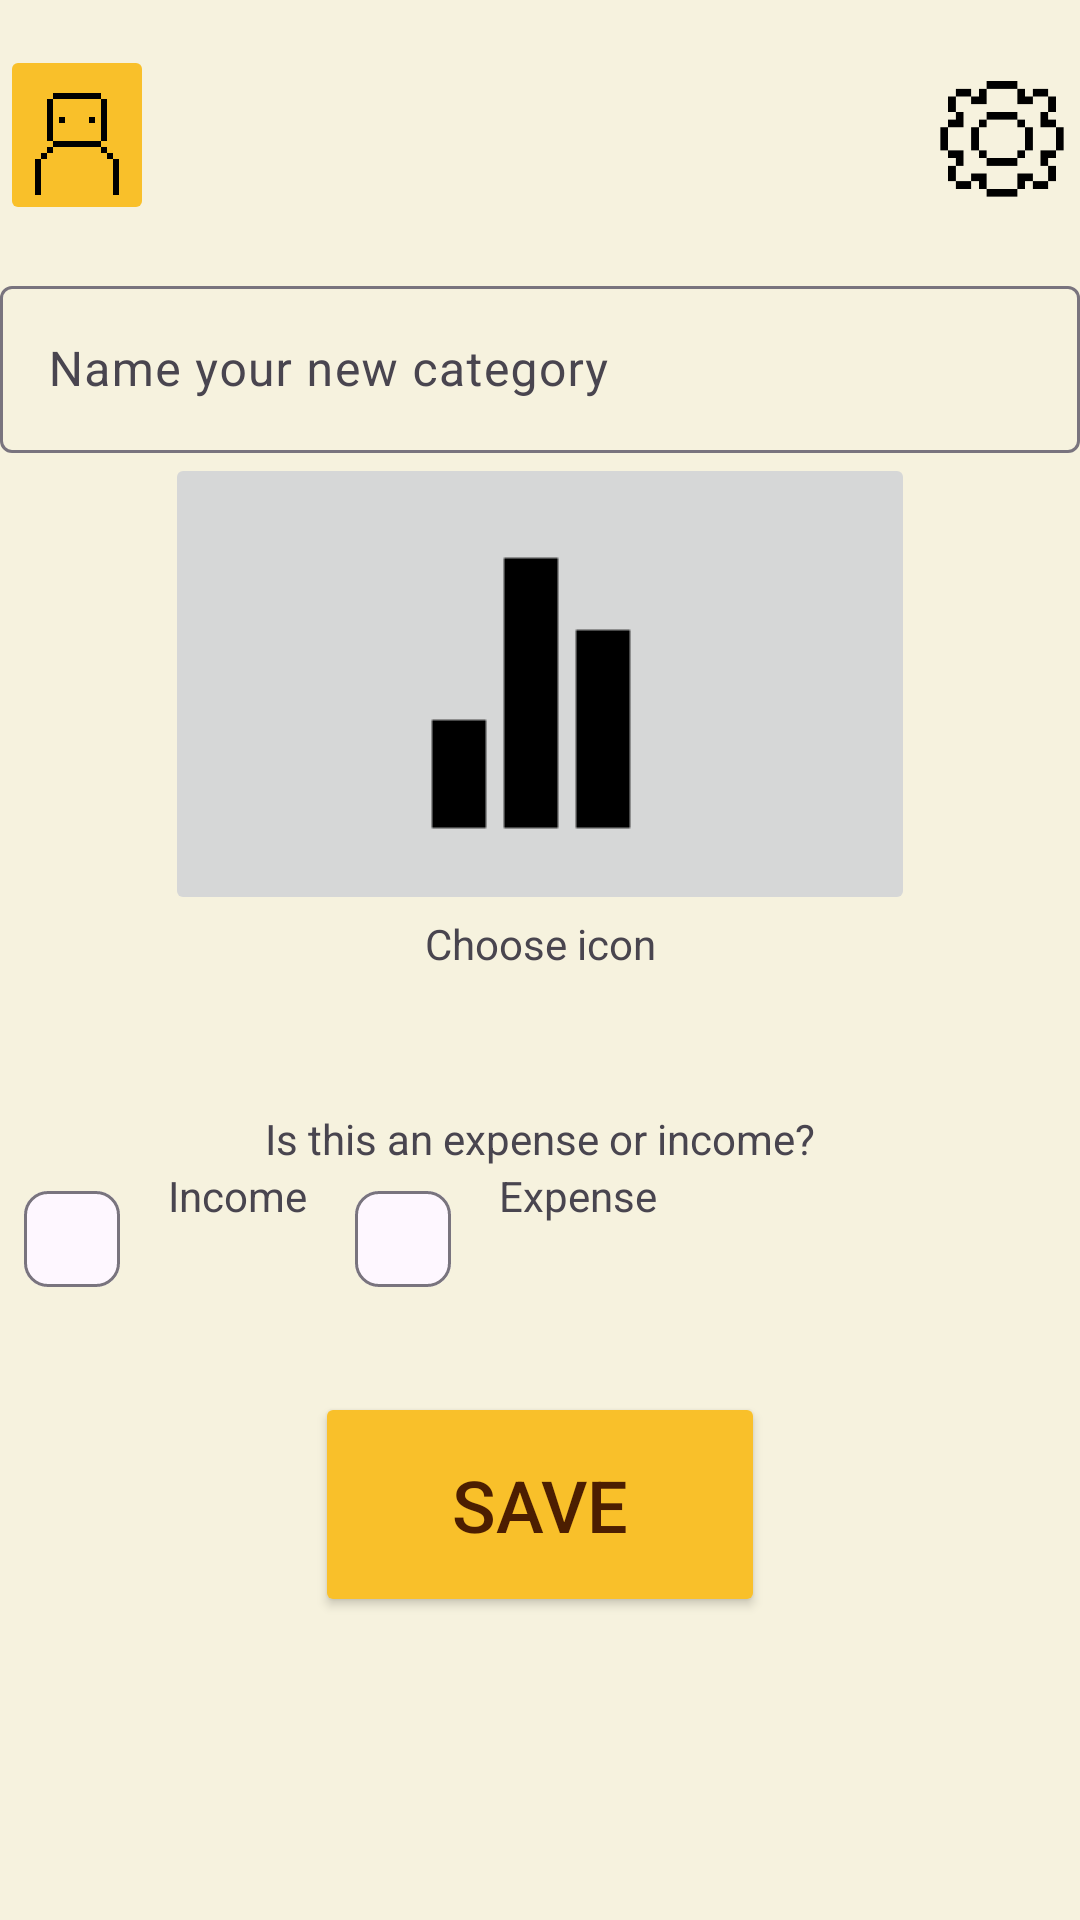

Screen size 1080 x 1920. Icon name, then its center in pixels as (x,y):
cogicon: (1002,139)
profileicon: (77,135)
